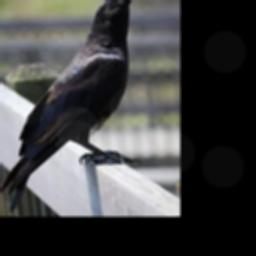Crow: (0, 0, 142, 210)
